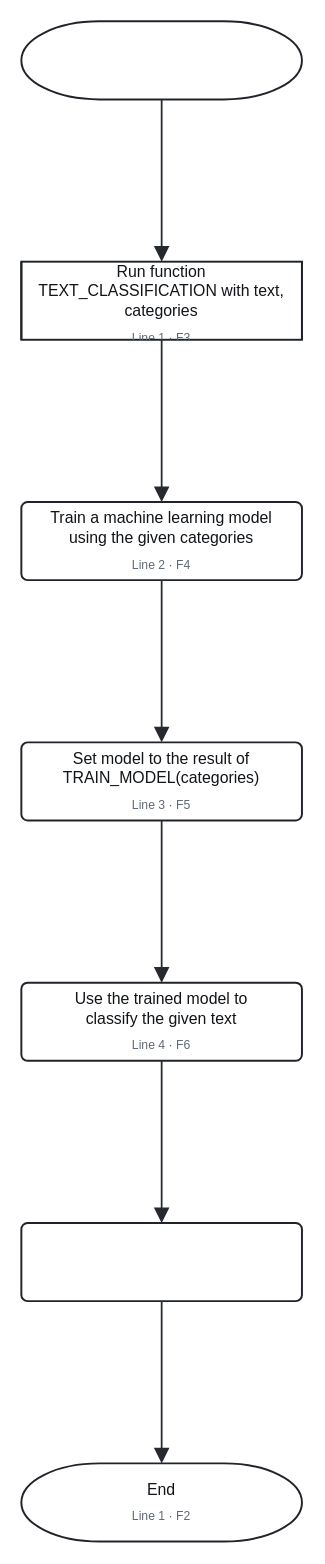
This 325x1564 diagram has some shape labels left out. Each missing label, with the centre of its shape:
"Return the result of CLASSIFY_TEXT(text, model) Line 5 · F7" belongs at (x=161, y=1261).
"Start Line 1 · F1" belongs at (x=161, y=60).
